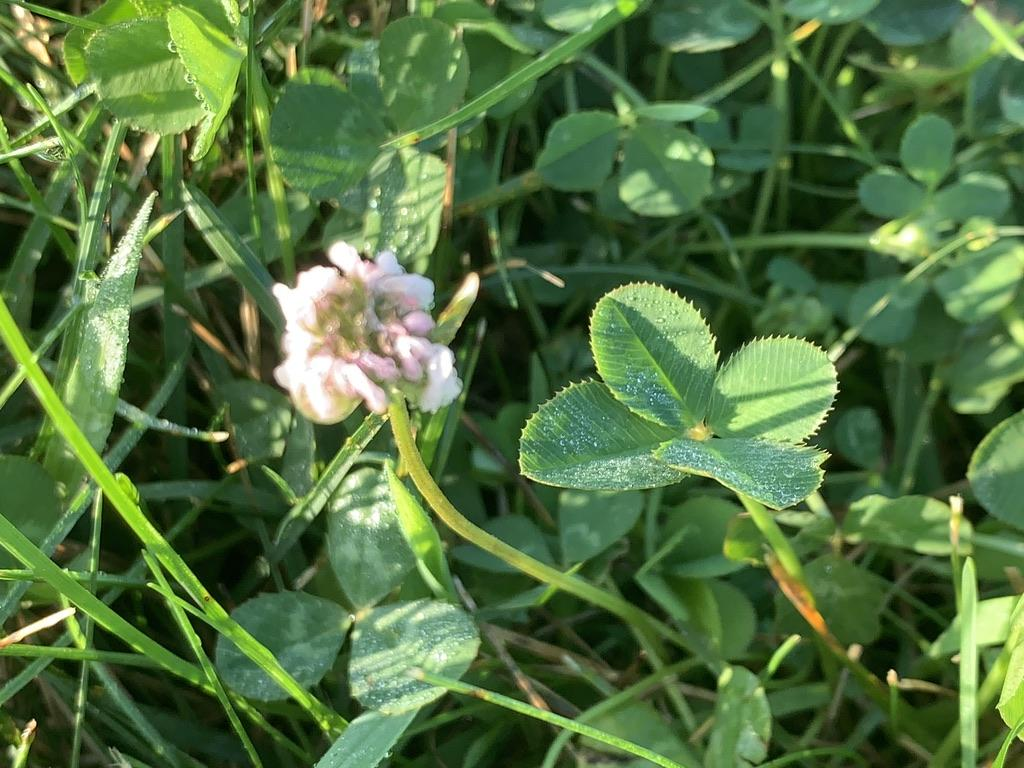4-Leaf-Clovers: (384, 135, 677, 380)
